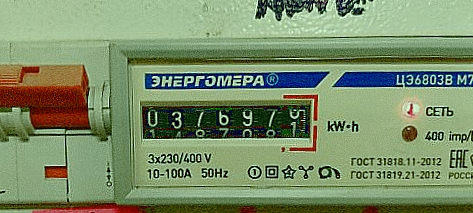0: (145, 107, 159, 127)
1: (288, 119, 299, 137)
3: (170, 108, 183, 128)
6: (216, 104, 230, 125)
7: (192, 106, 206, 127), (264, 105, 277, 127)
9: (240, 106, 253, 127)
screen: (132, 88, 323, 155)
